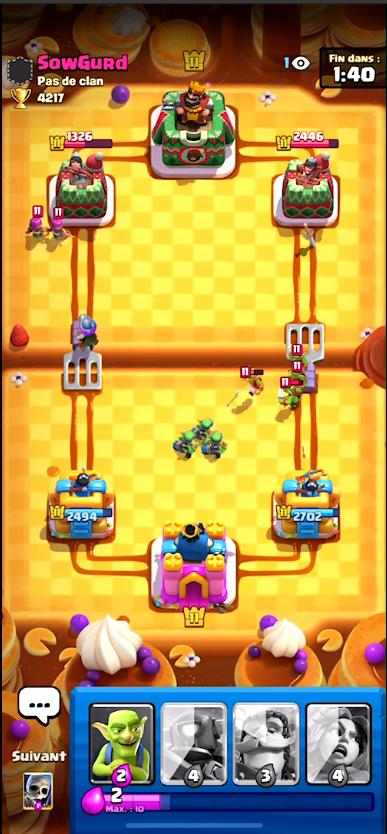archere: (48, 206, 72, 243), (28, 205, 48, 240)
gobelin: (277, 378, 306, 408), (240, 368, 265, 396), (288, 345, 310, 365), (292, 363, 307, 387)
gobelin_lances: (176, 430, 198, 458), (193, 417, 216, 439), (207, 432, 224, 457)
mousquetaire: (73, 312, 100, 345)
